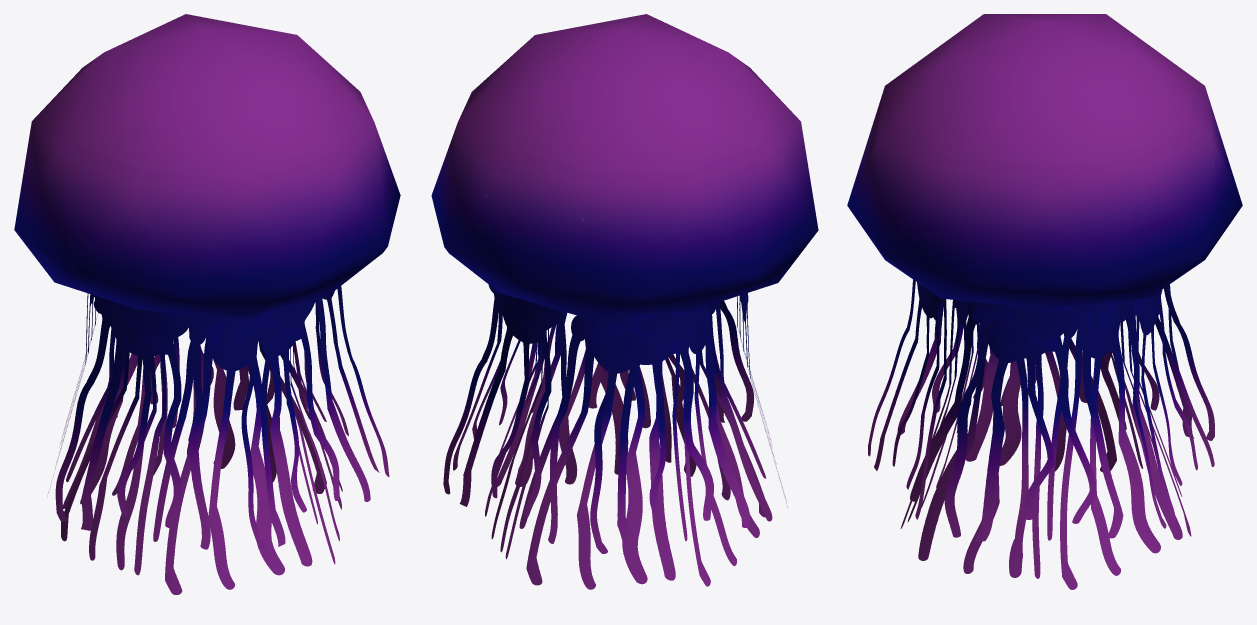
Rendered from jelly.fbx.
3 views of the same model, side by side, from view 1: azimuth 30°, elevation 25°; view 2: azimuth 150°, elevation 25°; view 3: azimuth 270°, elevation 25° (orthographic).
Parts seen in each view (by area): view 1: jellyfish; view 2: jellyfish; view 3: jellyfish.
Part boxes in pixels (x1,y1,x2,y2): jellyfish: [14, 14, 400, 594]; jellyfish: [431, 14, 818, 589]; jellyfish: [847, 14, 1242, 589].
Size of the model in its own units: 192 by 288 by 200.
1 material, 1 textured.
